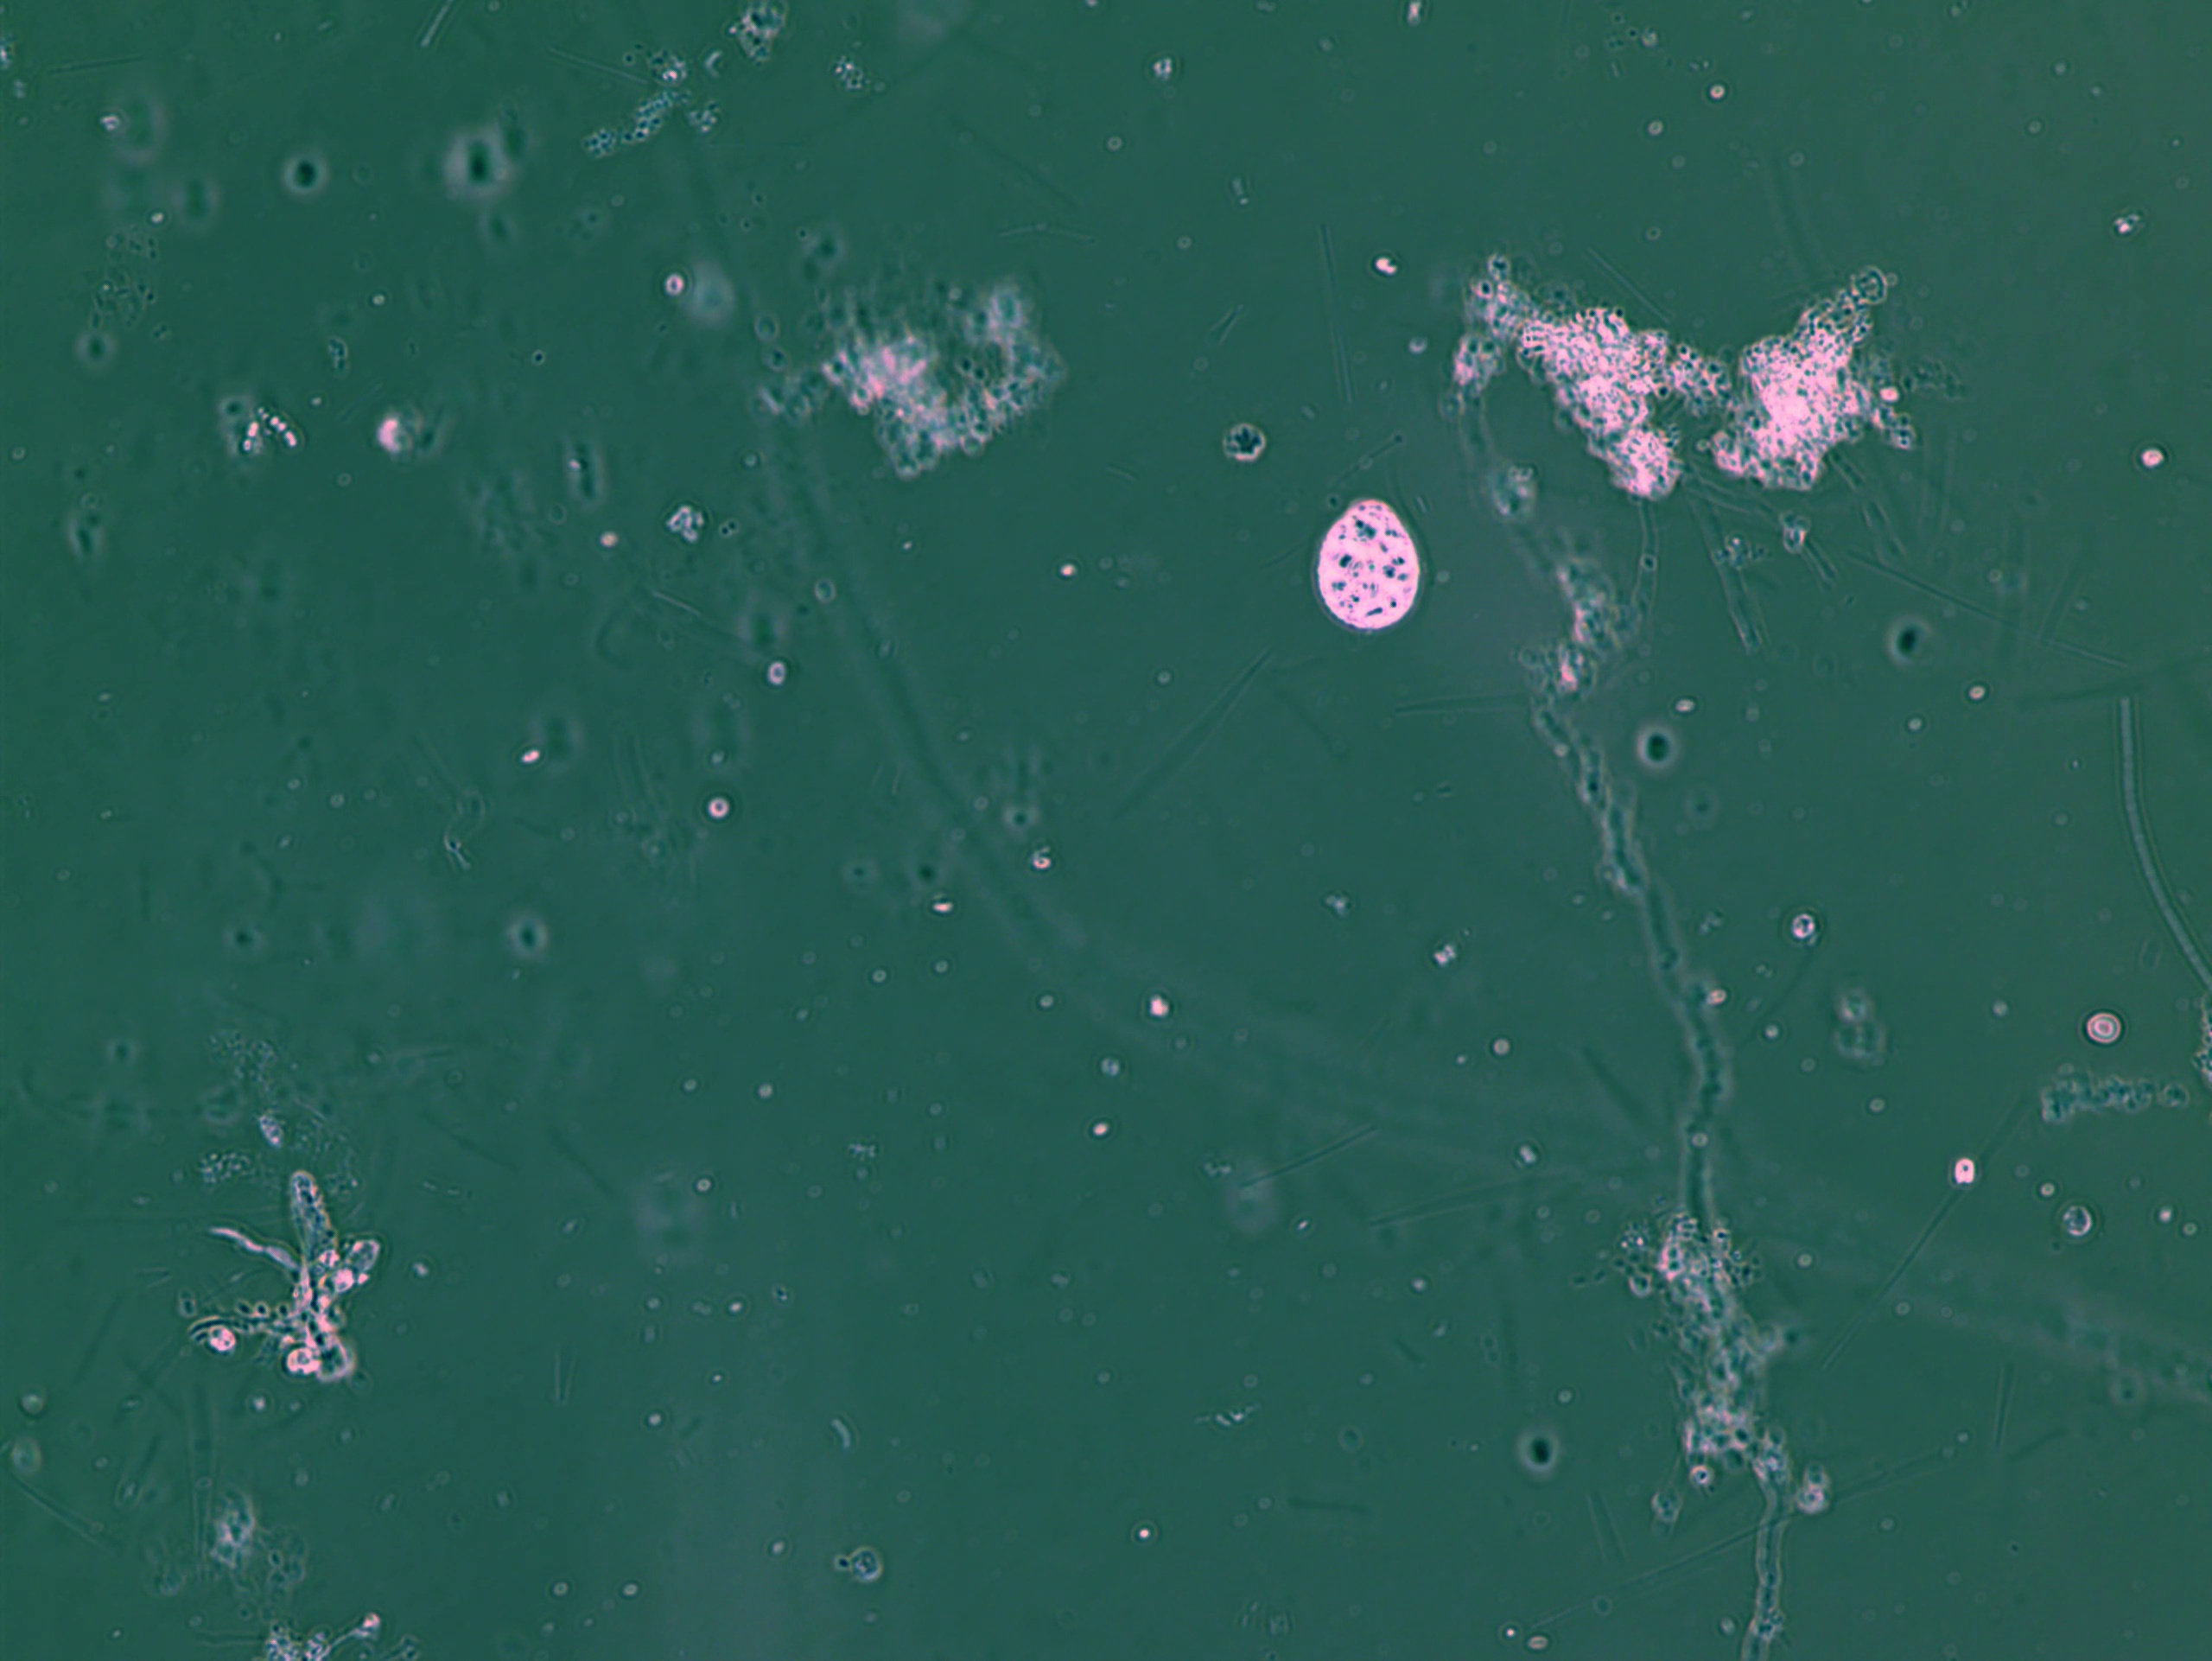depth:0: (1287, 473, 1460, 665)
